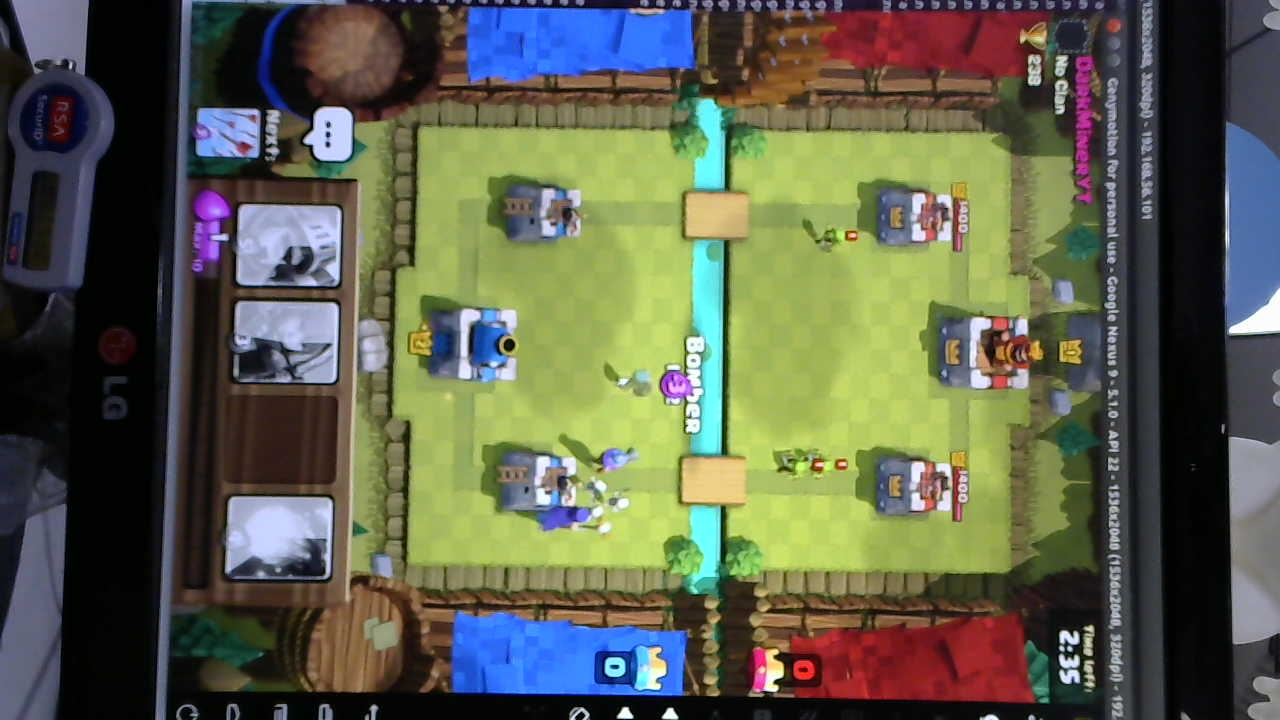arena: (502, 183, 590, 244), (494, 448, 580, 505)
earena: (877, 456, 956, 518), (880, 186, 958, 244)
eking: (942, 313, 1037, 391)
goblin: (811, 222, 862, 255)
goblins: (775, 447, 852, 482)
king: (428, 301, 518, 387)
musketeer: (585, 445, 640, 476)
skeleton: (581, 478, 635, 528)
witch: (535, 502, 616, 540)
